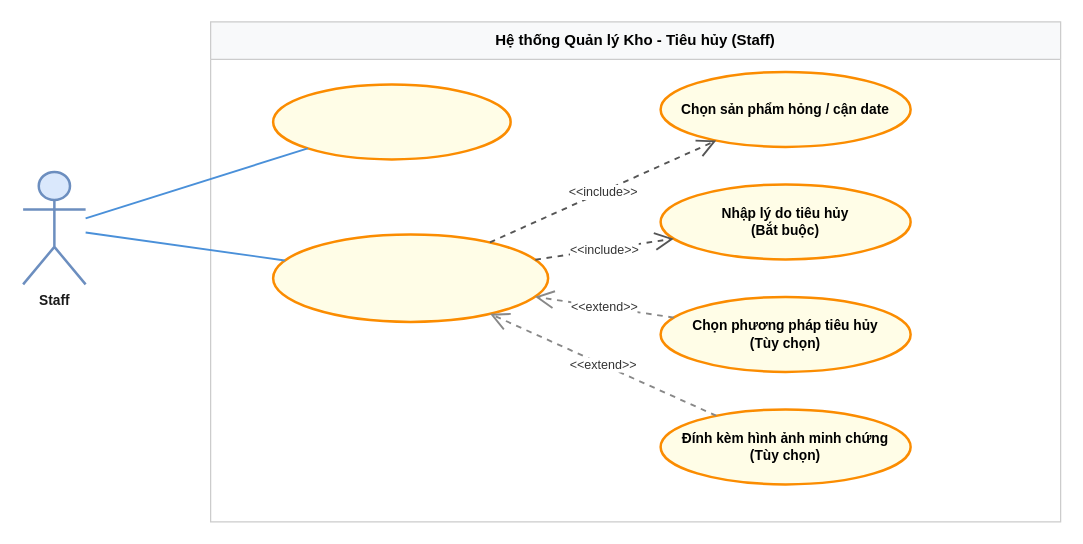
Image size: 1083x544. Some labels were removed from this diagram. Each missing label, with the box of its shape:
Tạo đề xuất Tiêu hủy (Lưu thẳng thành PENDING_ADMIN): (271, 232, 549, 322)
Xem phiếu Tiêu hủy: (271, 82, 511, 160)
